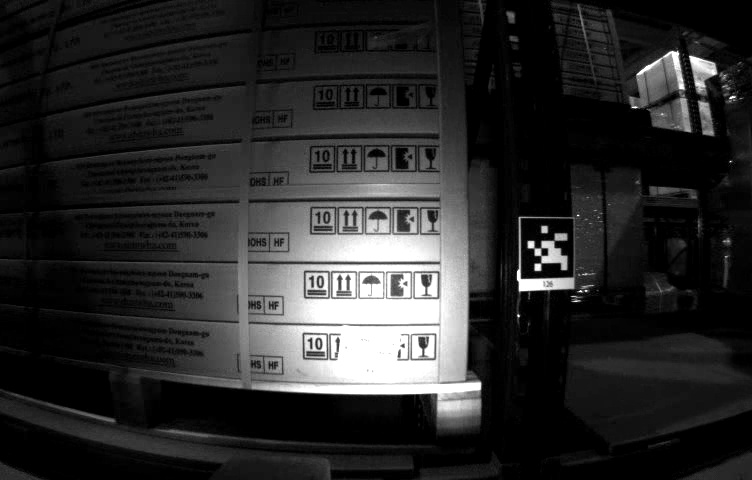True Barcode: (340, 323, 399, 382)
